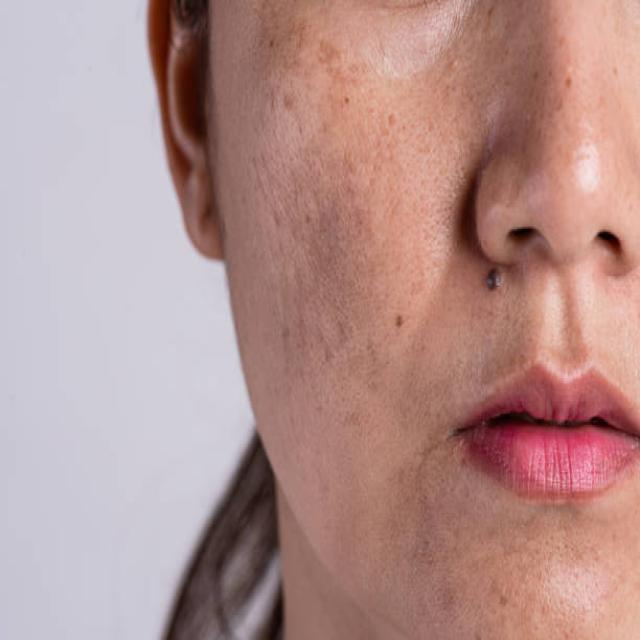dry: (278, 276, 412, 538), (398, 0, 516, 159), (331, 236, 423, 426), (519, 141, 603, 300), (256, 44, 370, 154), (452, 540, 608, 605), (402, 134, 472, 277), (224, 186, 279, 312)
